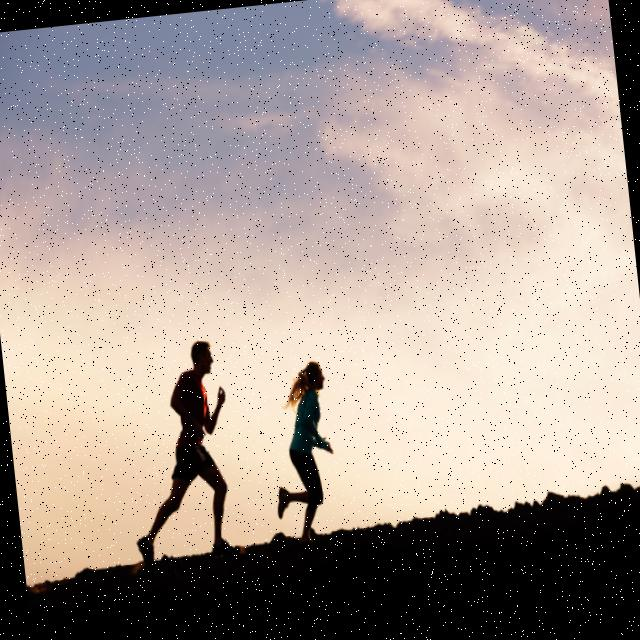Person: (115, 338, 242, 564), (263, 360, 343, 540)
